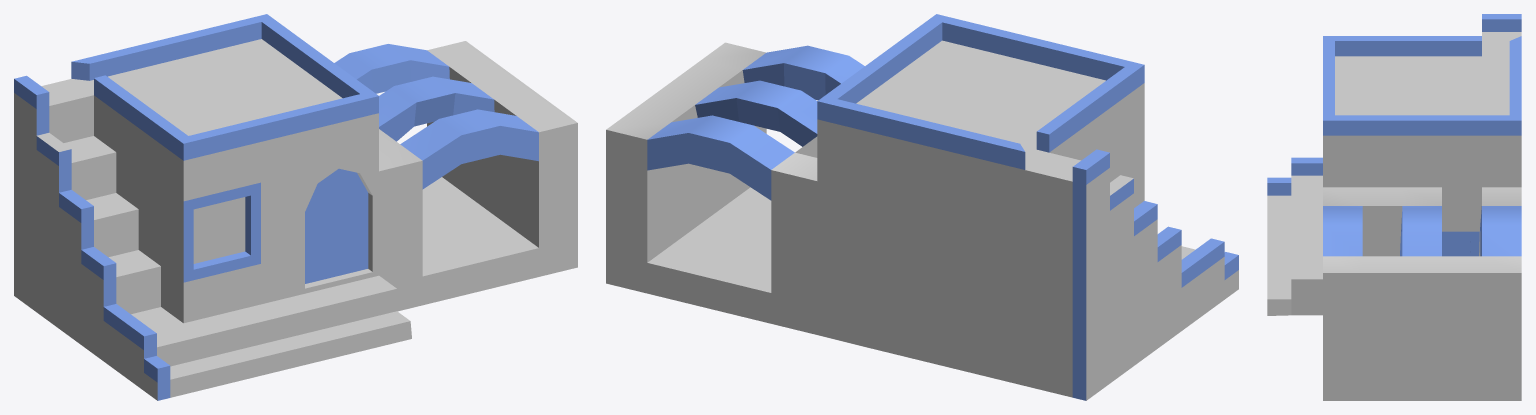
The model's file is Santorini_house3 1.fbx.
The picture shows the model from 3 angles, left to right: view 1: azimuth 30°, elevation 25°; view 2: azimuth 150°, elevation 25°; view 3: azimuth 270°, elevation 25°; orthographic projection. The views are drawn at different scales.
Visible parts, largest first — view 1: pCube5; view 2: pCube5; view 3: pCube5.
Part boxes in pixels (x1,y1,x2,y2): pCube5: (14,14,577,400); pCube5: (606,14,1238,400); pCube5: (1267,14,1521,400).
Bounding box in the file's own units: 18.4 × 8.57 × 10.13.
